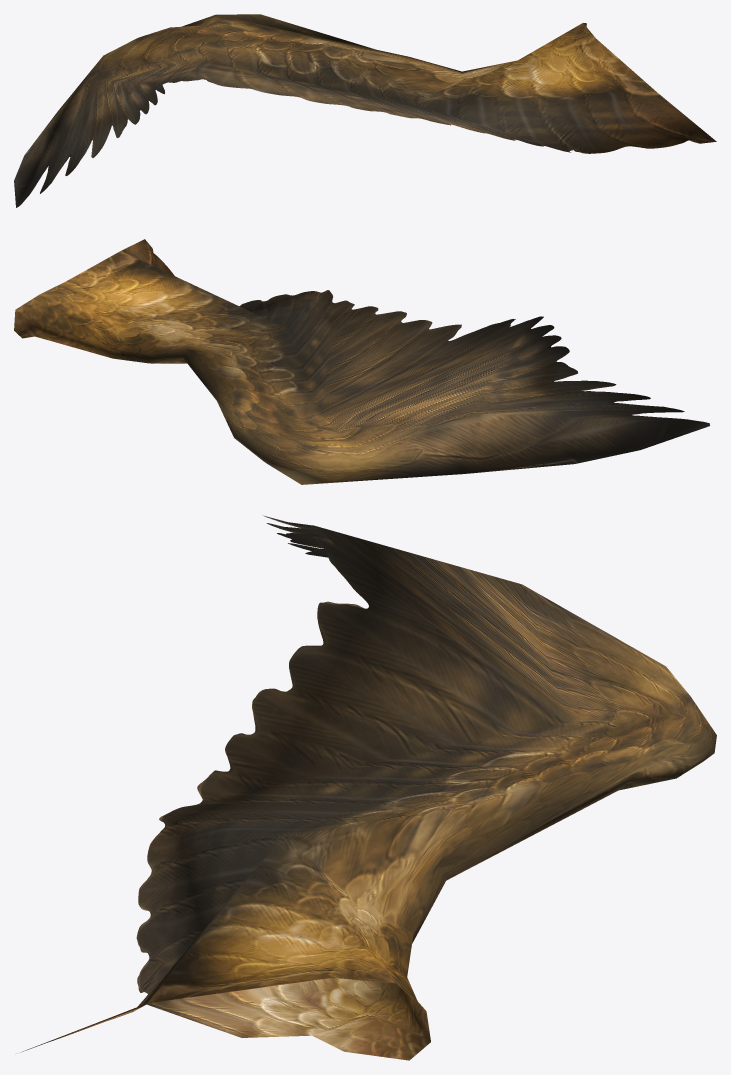
Rendered from es_aguila_ala_izq.obj.
The picture shows the model from 3 angles, top to bottom: view 1: azimuth 30°, elevation 25°; view 2: azimuth 150°, elevation 25°; view 3: azimuth 270°, elevation 25°; orthographic projection. The views are drawn at different scales.
Parts seen in each view (by area): view 1: EAGLE_ L Forearm_018_26, EAGLE_ L Hand_019_27, EAGLE_ L UpperArm_017_25, Eagle_WingLefttFeathers4_023_31, Eagle_WingLeftFeathers2_021_29, Eagle_WingLeftFeathers3_022_30; view 2: EAGLE_ L Hand_019_27, EAGLE_ L UpperArm_017_25, EAGLE_ L Forearm_018_26, Eagle_WingLeftFeathers2_021_29, Eagle_WingLeftFeathers3_022_30, Eagle_WingLefttFeathers4_023_31; view 3: EAGLE_ L UpperArm_017_25, Eagle_WingLeftFeathers2_021_29, EAGLE_ L Forearm_018_26, EAGLE_ L Hand_019_27, Eagle_WingLeftFeathers3_022_30, Object_60.001_M_Eagle, Eagle_WingLefttFeathers4_023_31.
Boxes of the visible parts, <box> form: EAGLE_ L Forearm_018_26: <box>170,14,450,125</box>; EAGLE_ L Hand_019_27: <box>14,27,202,207</box>; EAGLE_ L UpperArm_017_25: <box>364,23,657,105</box>; Eagle_WingLefttFeathers4_023_31: <box>418,93,716,153</box>; Eagle_WingLeftFeathers2_021_29: <box>181,60,415,118</box>; Eagle_WingLeftFeathers3_022_30: <box>418,105,570,152</box>; EAGLE_ L Hand_019_27: <box>234,316,709,484</box>; EAGLE_ L UpperArm_017_25: <box>14,251,283,363</box>; EAGLE_ L Forearm_018_26: <box>183,290,334,462</box>; Eagle_WingLeftFeathers2_021_29: <box>322,300,498,414</box>; Eagle_WingLeftFeathers3_022_30: <box>239,290,327,326</box>; Eagle_WingLefttFeathers4_023_31: <box>121,239,174,275</box>; EAGLE_ L UpperArm_017_25: <box>146,810,452,1060</box>; Eagle_WingLeftFeathers2_021_29: <box>197,551,567,799</box>; EAGLE_ L Forearm_018_26: <box>159,716,712,880</box>; EAGLE_ L Hand_019_27: <box>262,515,716,763</box>; Eagle_WingLeftFeathers3_022_30: <box>136,819,281,993</box>; Object_60.001_M_Eagle: <box>242,978,408,1060</box>; Eagle_WingLefttFeathers4_023_31: <box>21,840,279,1052</box>.
Bounding box in the file's own units: 103 × 20.27 × 61.98.
